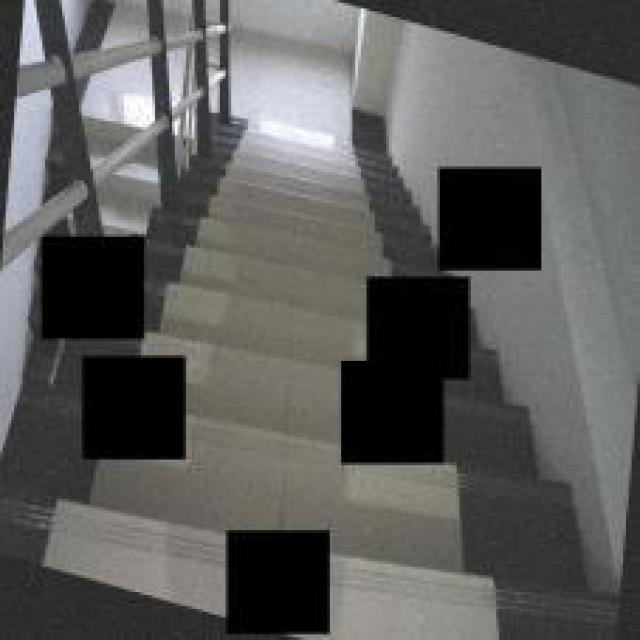downstair: (207, 106, 362, 354)
